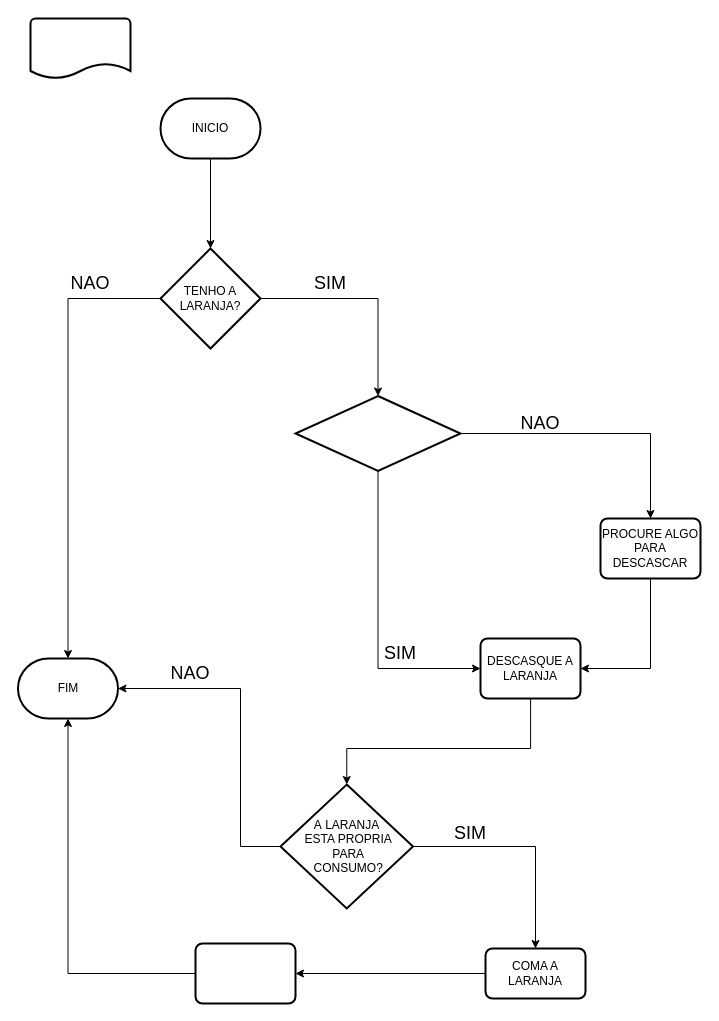
The diagram is 719 pixels wide and 1021 high, and some of its shapes have lost their labels. The shapes that lost their labels are listed below. From the top down, each one's centre as x and y in pixels, then its label:
pixel 80 48: DESCASCAR A LARANJA E COMER
pixel 377 433: TENHO ALGO PARA DESCASCAR?
pixel 245 973: DESCARTE O QUE SOBROU
